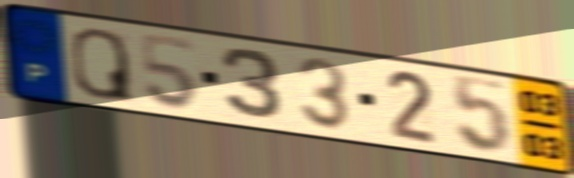2: (385, 69, 438, 147)
3: (217, 46, 286, 123), (294, 54, 352, 134)
5: (445, 75, 516, 158), (137, 29, 202, 114)
Q: (69, 25, 137, 105)
